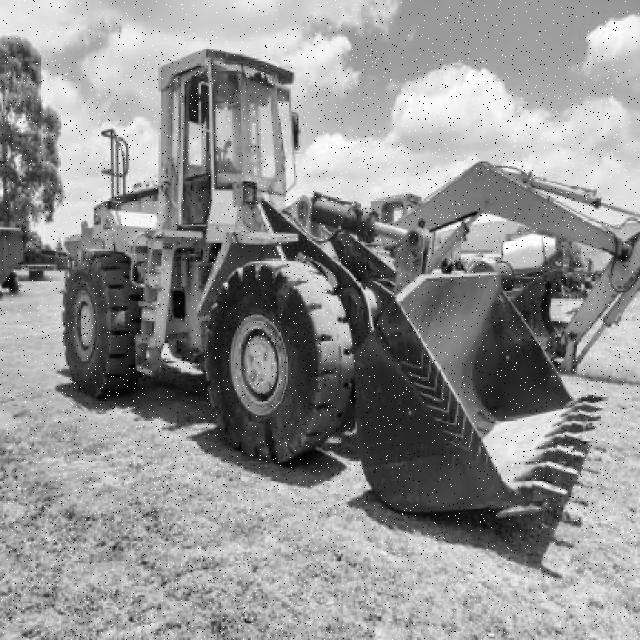Construction Equipment: (60, 49, 611, 521)
